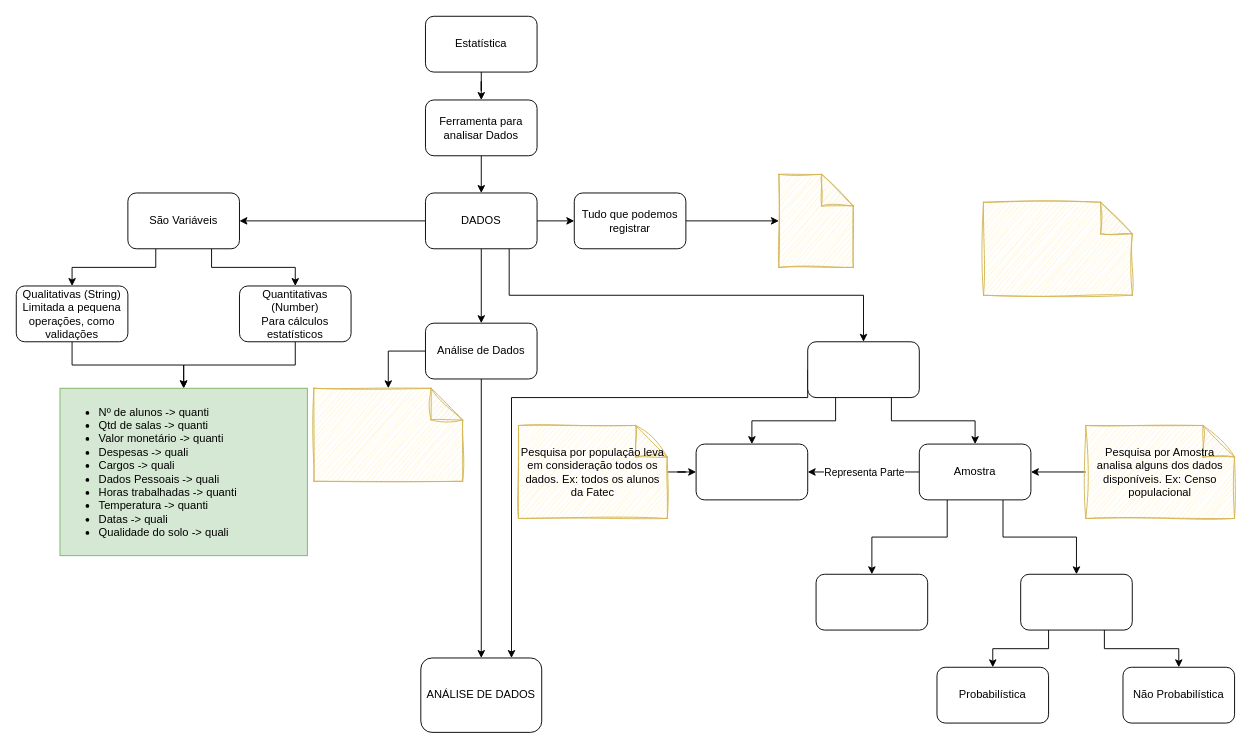
Some shapes in this 1251 by 749 pixel diagram are drawn without their labels. Each missing label, with the centre of its shape:
Coleta de Dados: point (863, 369)
O tipo de coleta de dados é definido pelo referencial do pesquisador: point (1057, 248)
População: point (751, 471)
Qtde (utilizado para cálculos): point (871, 601)
Quando analisados geram informações, e auxiliam nas tomadas de decisões: point (388, 434)
Registrar em Papel, Planilhas, Sofwares...: point (815, 220)
Seleção (possui técnicas de amostragem): point (1076, 601)
